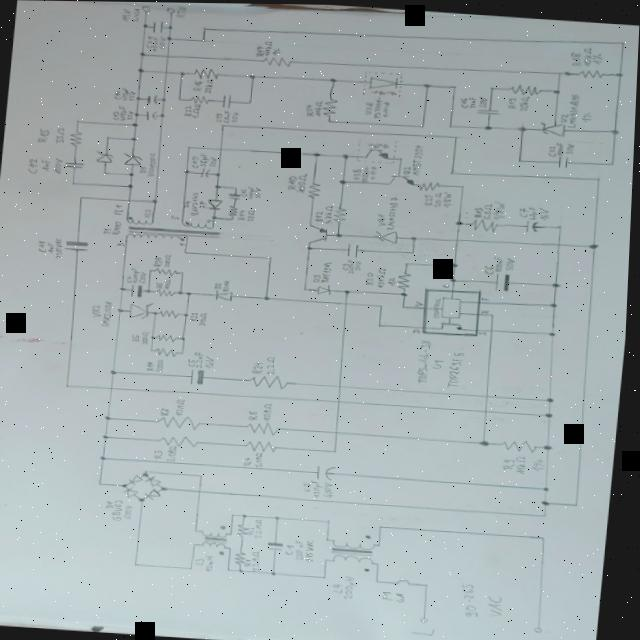capacitor: (494, 271, 513, 292), (317, 463, 339, 481), (64, 239, 91, 252), (191, 368, 208, 386), (218, 93, 232, 110), (524, 219, 541, 233), (347, 242, 361, 258), (474, 107, 501, 115), (131, 284, 145, 299), (556, 154, 570, 169), (269, 540, 288, 551), (149, 21, 163, 34), (143, 110, 158, 122), (64, 161, 85, 169), (199, 167, 212, 179), (145, 94, 159, 105), (228, 193, 242, 200)
crossover: (162, 53, 170, 59), (110, 385, 118, 391), (485, 406, 491, 412), (555, 241, 562, 246), (162, 69, 169, 74), (485, 392, 492, 397), (199, 489, 206, 494), (336, 430, 342, 435), (454, 237, 460, 242), (343, 301, 350, 305), (337, 399, 344, 403), (126, 198, 132, 202), (218, 147, 224, 151), (339, 384, 345, 388), (490, 327, 496, 331)
diode: (128, 301, 156, 320), (374, 229, 400, 244), (93, 150, 114, 164), (121, 153, 143, 166), (147, 474, 166, 488), (147, 488, 165, 501), (205, 198, 224, 210), (215, 289, 234, 301), (126, 486, 142, 500), (316, 284, 334, 296), (131, 474, 146, 486)
junction: (310, 149, 321, 160), (480, 437, 492, 446), (588, 240, 600, 249), (515, 124, 528, 132), (544, 442, 557, 450), (550, 281, 562, 288), (246, 73, 257, 80), (454, 219, 465, 226), (400, 290, 411, 297), (421, 82, 432, 89), (548, 301, 559, 308), (543, 498, 553, 505), (450, 261, 460, 268), (546, 396, 556, 403), (340, 153, 350, 160), (546, 411, 556, 418), (613, 70, 623, 77), (609, 128, 619, 135), (483, 124, 493, 130), (327, 77, 337, 83), (335, 231, 343, 238), (118, 307, 126, 314), (449, 276, 458, 282), (126, 184, 135, 190), (119, 286, 128, 292), (213, 172, 222, 178), (549, 330, 557, 336), (106, 415, 114, 421), (130, 122, 138, 128), (264, 295, 272, 301), (545, 485, 553, 491), (324, 575, 333, 580), (127, 172, 136, 177), (403, 261, 412, 266), (214, 184, 221, 190), (339, 179, 347, 184), (136, 69, 144, 74), (111, 370, 119, 375), (552, 88, 560, 93), (410, 236, 418, 241), (101, 456, 109, 461), (344, 289, 352, 294), (130, 138, 138, 143), (446, 123, 454, 128), (379, 524, 387, 529), (333, 448, 341, 453), (575, 501, 583, 506), (151, 199, 159, 204), (164, 486, 172, 491), (141, 497, 149, 502), (277, 515, 285, 520), (306, 245, 314, 250), (327, 519, 336, 523), (157, 113, 166, 117), (144, 472, 153, 476), (138, 52, 145, 57), (183, 169, 190, 174), (104, 435, 111, 440), (70, 181, 77, 186), (401, 304, 408, 309), (191, 566, 198, 571), (186, 291, 193, 296), (178, 290, 185, 295), (544, 512, 551, 517), (459, 183, 466, 188), (123, 483, 130, 488), (608, 161, 616, 165), (177, 72, 185, 76), (515, 158, 523, 162), (274, 571, 282, 575), (449, 84, 457, 88), (376, 323, 384, 327), (244, 514, 252, 518), (562, 70, 570, 74), (160, 97, 166, 102), (166, 25, 172, 30), (147, 288, 153, 293), (141, 23, 147, 28), (135, 96, 141, 101), (488, 86, 495, 90), (268, 256, 275, 260), (448, 170, 455, 174), (104, 136, 111, 140), (378, 304, 385, 308), (557, 225, 564, 229), (543, 535, 550, 539), (101, 171, 108, 175), (165, 36, 172, 40), (419, 124, 426, 128), (154, 311, 161, 315), (303, 287, 309, 291), (186, 145, 192, 149), (618, 40, 624, 44), (595, 176, 601, 180), (100, 482, 106, 486), (136, 563, 142, 567), (79, 196, 85, 200), (74, 120, 80, 124), (200, 27, 206, 31), (427, 582, 433, 586), (66, 384, 72, 388), (377, 579, 383, 583), (246, 101, 252, 105), (199, 38, 205, 42), (233, 513, 239, 517), (182, 337, 188, 341), (181, 351, 187, 355), (555, 70, 561, 74), (325, 119, 331, 123), (219, 124, 225, 128), (452, 134, 458, 138), (201, 474, 207, 478), (230, 546, 236, 550), (242, 569, 248, 573), (196, 529, 202, 533), (183, 251, 189, 255), (184, 312, 190, 316), (212, 215, 218, 219), (133, 113, 139, 117), (176, 97, 182, 101), (411, 250, 417, 254), (230, 568, 235, 572), (196, 542, 200, 547), (398, 157, 403, 161), (181, 271, 186, 275), (152, 335, 157, 339), (151, 348, 156, 352), (491, 312, 496, 316), (380, 542, 385, 546), (327, 557, 332, 561), (230, 217, 236, 220), (378, 562, 384, 565), (146, 469, 151, 472), (233, 186, 237, 189), (232, 532, 236, 535), (149, 269, 153, 272), (329, 538, 333, 541)
resistor: (158, 414, 204, 431), (251, 373, 292, 390), (158, 434, 202, 449), (501, 438, 540, 453), (247, 420, 283, 436), (246, 438, 282, 452), (507, 82, 541, 96), (471, 218, 500, 232), (574, 67, 605, 79), (190, 68, 220, 80), (321, 96, 338, 117), (414, 179, 442, 191), (396, 271, 412, 291), (263, 56, 292, 67), (332, 206, 349, 223), (67, 130, 83, 148), (307, 181, 322, 200), (156, 347, 179, 357), (155, 268, 179, 277), (160, 309, 181, 319), (237, 550, 250, 566), (190, 94, 208, 105), (157, 333, 179, 342), (239, 523, 252, 538), (157, 288, 177, 297), (228, 204, 239, 217)
terminal: (422, 615, 434, 623), (139, 5, 149, 14), (537, 625, 547, 633), (164, 7, 174, 14)
text: (462, 582, 486, 618), (416, 337, 434, 385), (446, 351, 467, 388), (565, 91, 581, 127), (386, 195, 401, 231), (488, 593, 510, 617), (410, 143, 425, 176), (345, 575, 361, 600), (102, 301, 115, 328), (145, 153, 158, 178), (516, 454, 531, 474), (115, 499, 128, 522), (414, 626, 441, 637), (190, 192, 202, 216), (253, 549, 266, 571), (312, 479, 327, 498), (262, 401, 276, 421), (266, 355, 280, 375), (532, 456, 548, 473), (176, 397, 190, 416), (493, 200, 507, 219), (168, 444, 182, 463), (321, 261, 333, 283), (371, 96, 383, 118), (35, 128, 51, 144), (55, 235, 65, 260), (325, 480, 338, 499), (308, 539, 319, 561), (376, 266, 387, 288), (255, 518, 267, 538), (567, 51, 583, 66), (580, 45, 592, 65), (297, 173, 309, 193), (53, 128, 67, 145), (51, 157, 64, 175), (323, 204, 335, 223), (440, 191, 454, 207), (26, 158, 39, 175), (297, 540, 308, 560), (116, 105, 128, 123), (287, 173, 299, 191), (252, 359, 266, 374), (433, 296, 443, 317), (90, 304, 104, 319), (125, 504, 138, 520), (493, 255, 505, 272), (517, 94, 529, 111), (202, 77, 214, 94), (380, 101, 392, 118), (194, 351, 205, 369), (538, 206, 552, 220), (503, 457, 518, 470), (256, 452, 268, 468), (199, 152, 211, 168), (112, 220, 124, 236), (190, 103, 202, 119), (207, 555, 218, 572), (483, 202, 494, 219), (375, 212, 388, 226), (119, 8, 131, 23), (528, 205, 540, 220), (553, 140, 565, 155), (245, 185, 257, 200), (173, 6, 186, 19), (505, 96, 518, 109), (590, 51, 603, 64), (303, 104, 316, 117), (205, 356, 217, 370), (397, 591, 411, 603), (579, 110, 593, 122), (119, 87, 130, 102), (505, 256, 516, 271), (432, 358, 447, 369), (366, 270, 377, 285), (334, 582, 349, 593), (433, 191, 443, 207), (131, 268, 141, 284), (113, 203, 125, 216), (153, 255, 165, 268), (37, 241, 49, 254), (423, 193, 435, 206), (546, 144, 558, 157), (191, 79, 203, 92), (236, 208, 248, 221), (156, 359, 167, 373), (384, 589, 398, 600), (248, 410, 262, 421), (363, 101, 374, 115), (351, 167, 362, 181), (314, 99, 323, 116), (361, 164, 370, 181), (263, 40, 272, 56), (473, 206, 485, 218), (155, 448, 167, 460), (253, 45, 265, 57), (40, 159, 51, 172), (314, 209, 325, 222), (467, 95, 478, 108), (182, 105, 193, 118), (163, 254, 173, 268), (199, 312, 209, 326), (130, 9, 140, 23), (347, 259, 357, 273), (368, 165, 378, 179), (287, 543, 298, 555), (303, 481, 315, 492), (483, 264, 495, 275), (518, 206, 530, 217), (564, 142, 575, 154), (477, 96, 488, 108), (457, 96, 469, 107), (244, 456, 256, 467), (151, 36, 159, 52), (142, 331, 151, 345), (147, 361, 158, 372), (558, 111, 569, 122), (190, 156, 200, 168), (246, 209, 256, 221), (254, 187, 264, 199), (222, 110, 231, 123), (144, 35, 153, 48), (157, 37, 166, 50), (164, 279, 174, 290), (223, 280, 233, 291), (107, 500, 118, 510), (161, 407, 173, 416), (209, 156, 218, 168), (140, 272, 149, 284), (110, 111, 120, 121), (388, 276, 398, 286), (249, 526, 259, 536), (354, 260, 364, 270), (402, 164, 412, 174), (47, 243, 56, 254), (103, 226, 114, 235), (230, 111, 239, 122), (198, 557, 209, 566), (198, 200, 209, 209), (190, 312, 199, 322), (132, 334, 142, 343), (112, 90, 121, 100), (127, 92, 136, 102), (125, 111, 134, 121), (214, 112, 223, 122), (271, 47, 281, 56), (115, 241, 126, 249), (530, 636, 551, 640), (188, 358, 197, 367), (313, 273, 322, 282), (247, 558, 256, 567), (415, 300, 426, 307), (170, 214, 181, 221), (144, 208, 152, 217), (138, 166, 147, 174), (241, 187, 249, 196), (412, 327, 422, 334), (156, 281, 164, 289), (342, 262, 350, 270), (184, 200, 192, 208), (481, 307, 491, 313), (442, 282, 452, 288), (215, 282, 223, 289), (127, 275, 134, 283), (478, 330, 489, 335), (481, 295, 491, 300), (205, 218, 213, 223), (178, 242, 186, 246)
thyristor: (536, 120, 566, 137)
transformer: (123, 217, 227, 244), (331, 531, 380, 572), (201, 524, 232, 555)
transistor: (307, 224, 331, 245), (388, 174, 416, 187)
